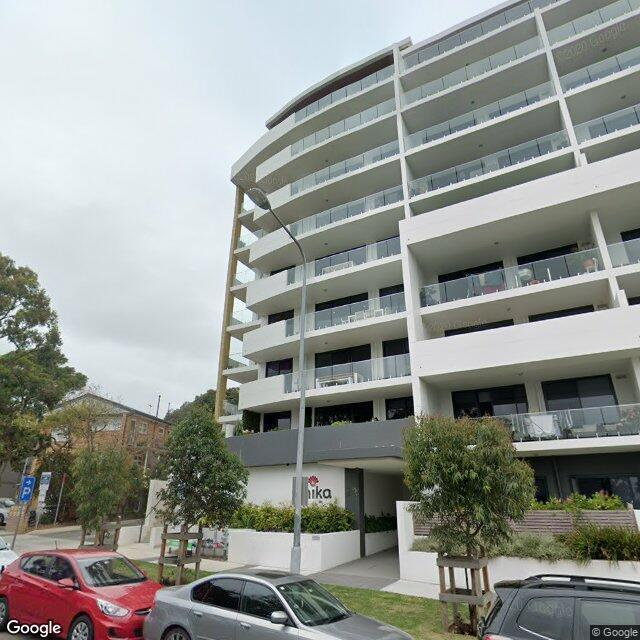steel-pole: (289, 262, 308, 575)
streetlight: (247, 187, 306, 264)
